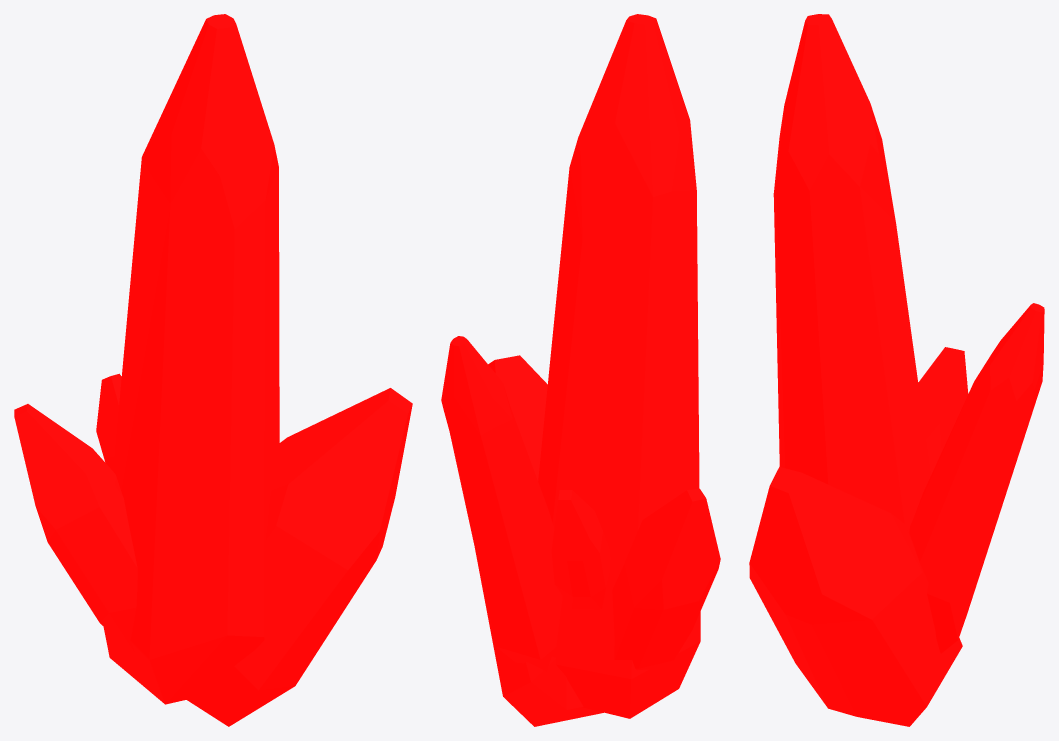
File: SM_ResourcePointTop.fbx
3 renders of one model, left to right at view 1: azimuth 30°, elevation 25°; view 2: azimuth 150°, elevation 25°; view 3: azimuth 270°, elevation 25°, orthographic. The views are drawn at different scales.
Visible parts, largest first — view 1: ResourcePointTop; view 2: ResourcePointTop; view 3: ResourcePointTop.
Part boxes in pixels (x1,y1,x2,y2): ResourcePointTop: [14, 14, 412, 726]; ResourcePointTop: [441, 14, 720, 726]; ResourcePointTop: [749, 14, 1044, 726].
Size of the model in its own units: 10.77 by 23.55 by 9.27.
